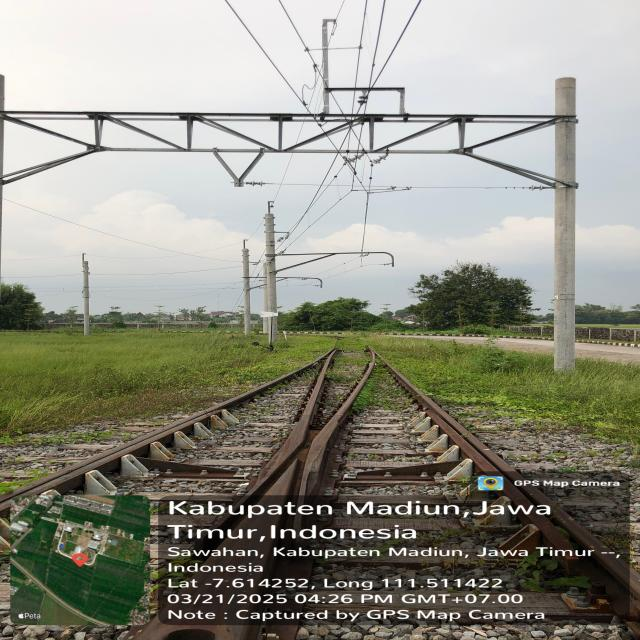rail-detection: (0, 349, 336, 509), (389, 366, 571, 550), (254, 350, 335, 489), (299, 360, 375, 495), (550, 504, 640, 598)
